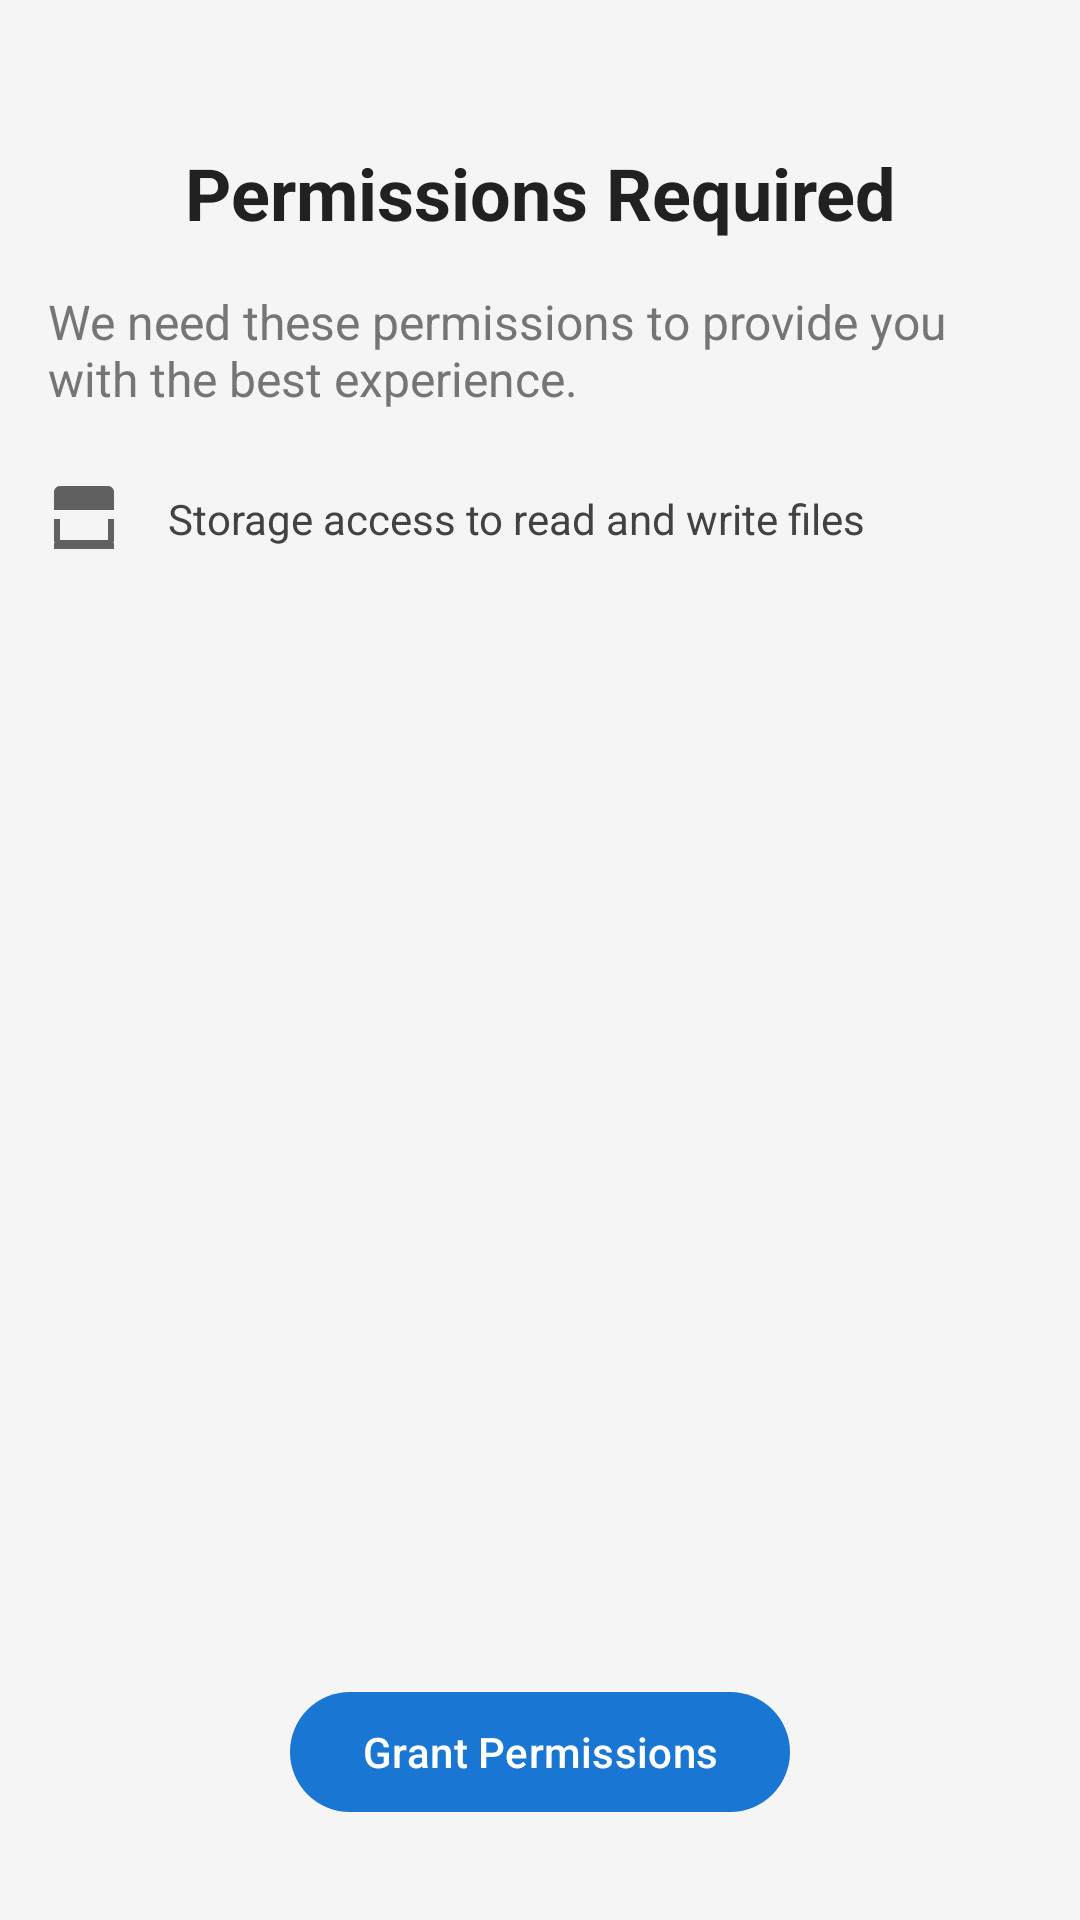

Where icons sit on this 1080px x 1920px app screen, as (x1, y1, x2, y2):
Storage permission: (54, 486, 114, 549)
